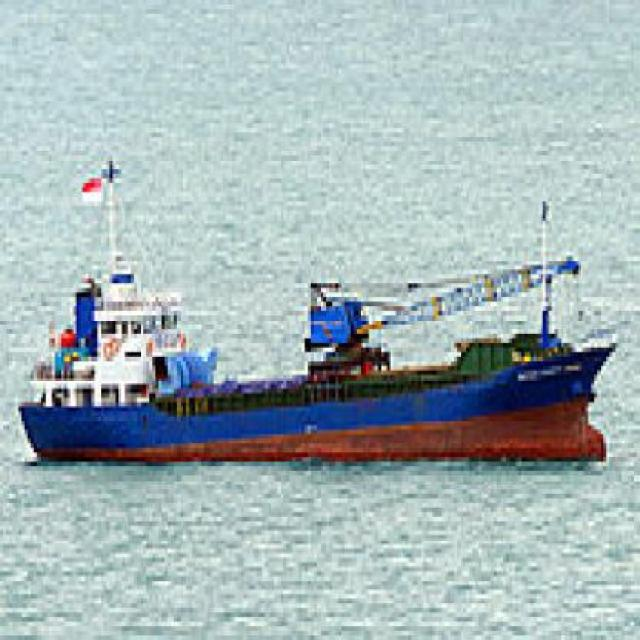container: (17, 147, 617, 472)
